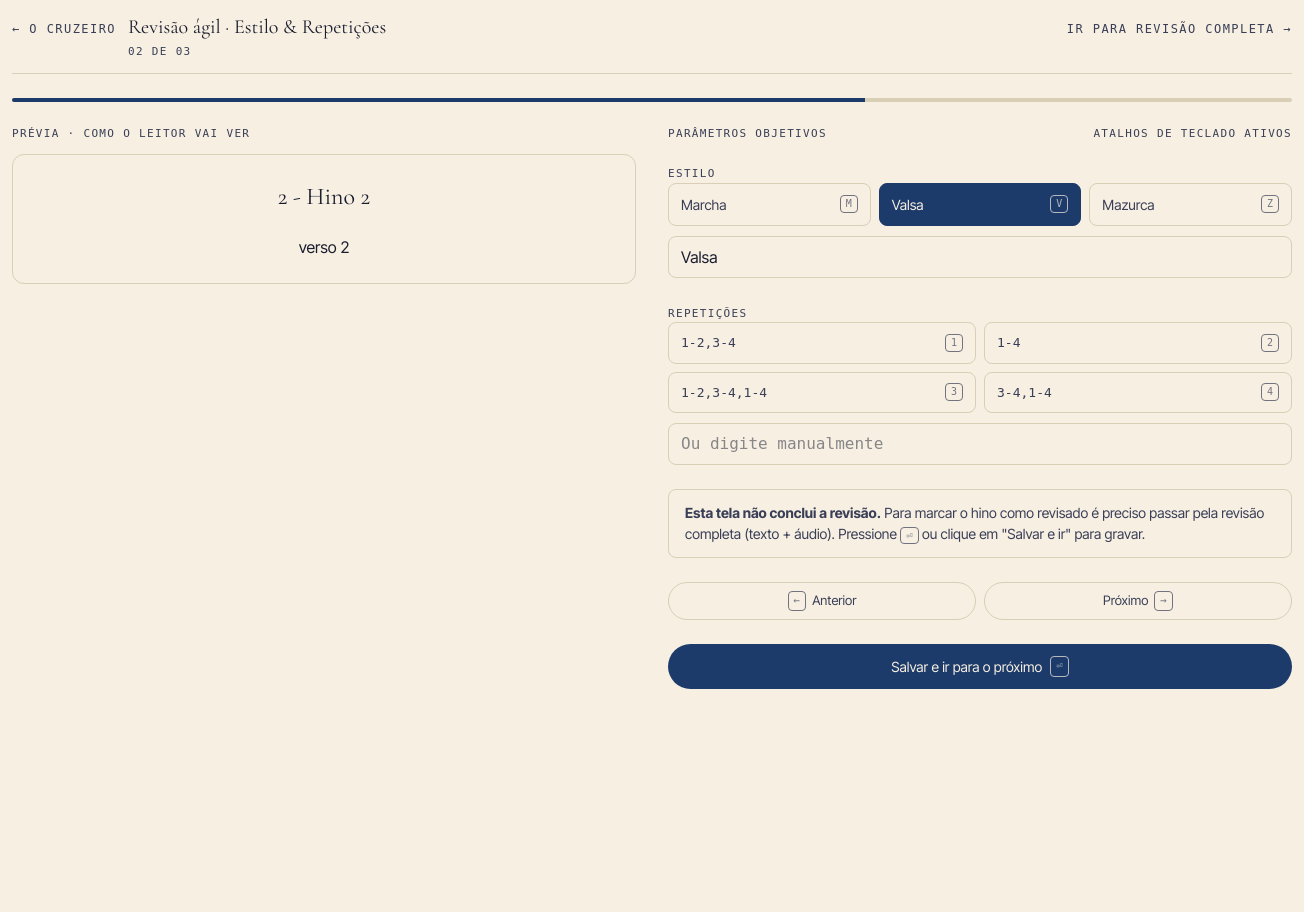
Test case: /editor/hinarios/[slug]/revisao-agil — submit (5E.3) › não navega quando a mutation falha e mostra o erro
Click the button with test id "quick-review-submit": x=980, y=666 [668, 644, 1292, 689]
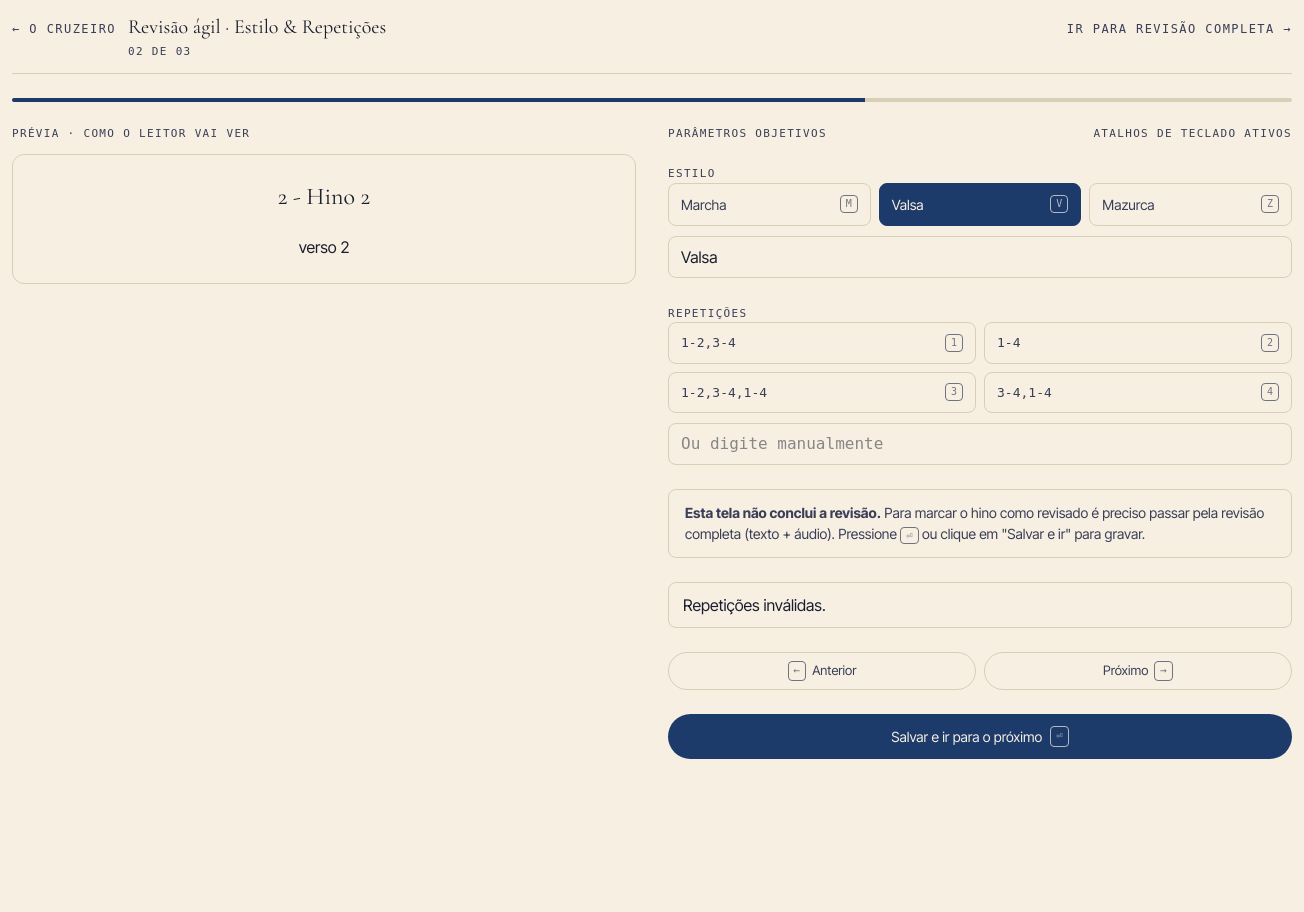
expect the message with test id "quick-review-error" reads "Repetições inválidas.": met, box [683, 594, 826, 614]
